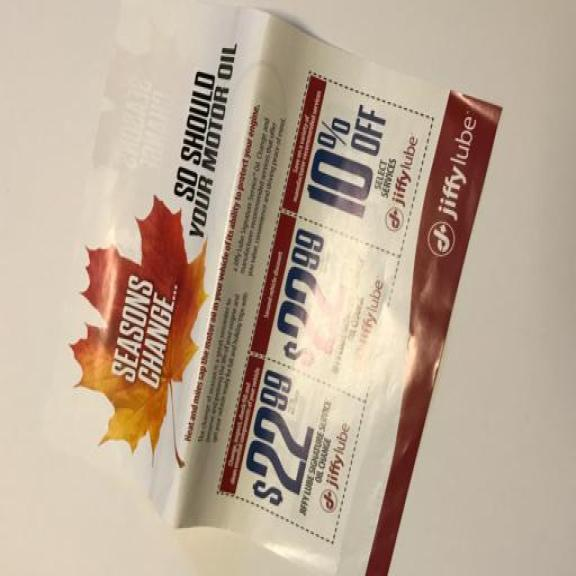Kertas: (61, 0, 506, 576)
